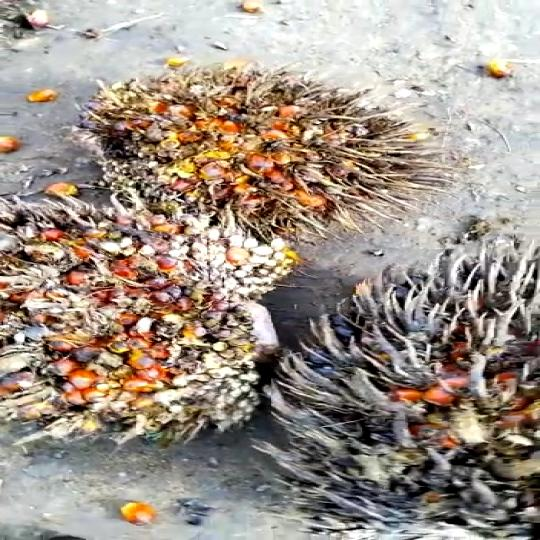terlalu masak: (73, 73, 428, 234)
